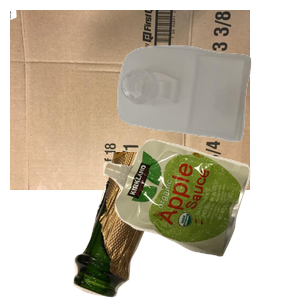cardboard: (10, 10, 250, 190)
glass: (71, 152, 260, 300)
plastic: (115, 43, 300, 177)
trash: (100, 137, 300, 300)
